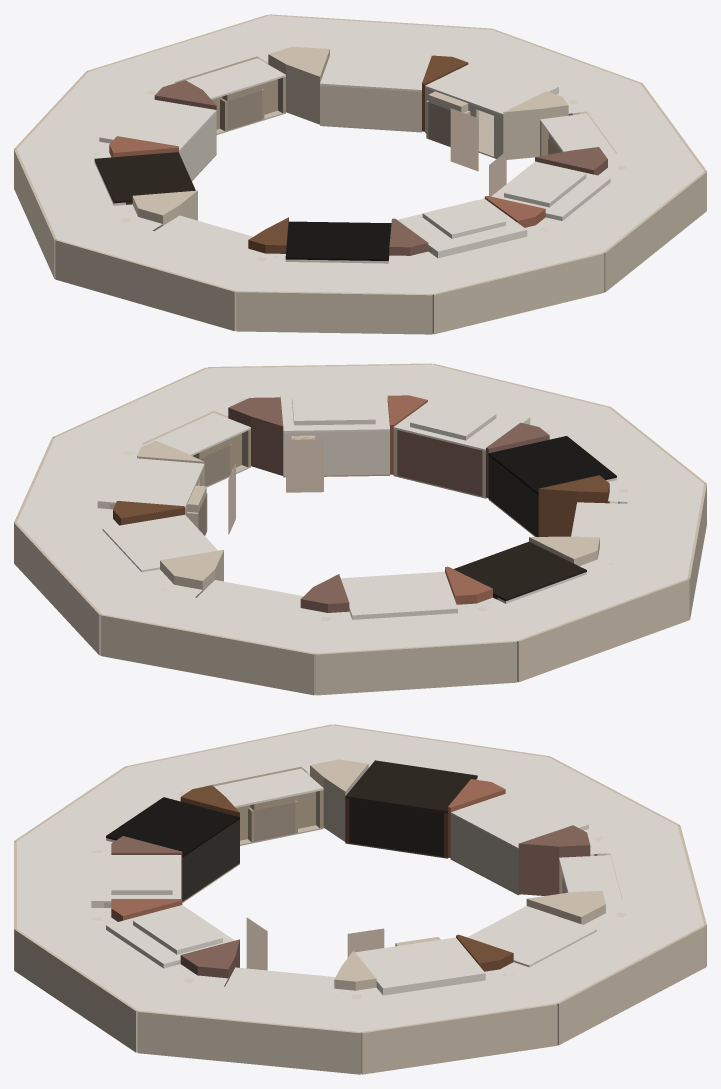
3 renders of one model, top to bottom at view 1: azimuth 30°, elevation 25°; view 2: azimuth 150°, elevation 25°; view 3: azimuth 270°, elevation 25°, orthographic. The views are drawn at different scales.
Parts seen in each view (by area): view 1: dinding luar.009, dinding luar.008, dinding luar, plafon aula.005, plafon aula.004, plafon aula.008, plafon aula.001, plafon aula.007, plafon aula.002, plafon aula.009, plafon aula, plafon aula.006 (+36 smaller); view 2: dinding luar.005, dinding luar.006, dinding luar.007, plafon aula.005, plafon aula.004, plafon aula.007, plafon aula.002, plafon aula.008, plafon aula.001, plafon aula.006, plafon aula.003, plafon aula.009 (+32 smaller); view 3: dinding luar.002, dinding luar.003, plafon aula.004, plafon aula.005, dinding luar.004, plafon aula.002, plafon aula.008, plafon aula.001, plafon aula.007, plafon aula.003, plafon aula, plafon aula.009 (+35 smaller).
Part boxes in pixels (bbox=[...]): dinding luar.009: bbox=[236, 291, 432, 334]; dinding luar.008: bbox=[55, 239, 236, 331]; dinding luar: bbox=[432, 252, 604, 334]; plafon aula.005: bbox=[89, 15, 287, 90]; plafon aula.004: bbox=[269, 15, 490, 57]; plafon aula.008: bbox=[57, 221, 258, 290]; plafon aula.001: bbox=[550, 168, 703, 252]; plafon aula.007: bbox=[17, 149, 120, 239]; plafon aula.002: bbox=[579, 84, 703, 171]; plafon aula.009: bbox=[236, 261, 432, 293]; plafon aula: bbox=[415, 231, 602, 293]; plafon aula.006: bbox=[17, 72, 146, 151]; dinding luar.005: bbox=[100, 614, 315, 695]; dinding luar.006: bbox=[315, 640, 517, 695]; dinding luar.007: bbox=[517, 578, 689, 682]; plafon aula.005: bbox=[102, 591, 324, 653]; plafon aula.004: bbox=[17, 519, 158, 613]; plafon aula.007: bbox=[485, 563, 686, 640]; plafon aula.002: bbox=[55, 368, 240, 452]; plafon aula.008: bbox=[616, 484, 703, 578]; plafon aula.001: bbox=[208, 364, 431, 398]; plafon aula.006: bbox=[315, 611, 516, 653]; plafon aula.003: bbox=[17, 438, 122, 522]; plafon aula.009: bbox=[554, 408, 703, 490]; dinding luar.002: bbox=[137, 1010, 361, 1074]; dinding luar.003: bbox=[361, 1003, 557, 1074]; plafon aula.004: bbox=[512, 915, 703, 1002]; plafon aula.005: bbox=[606, 825, 703, 924]; dinding luar.004: bbox=[557, 925, 706, 1045]; plafon aula.002: bbox=[139, 983, 361, 1031]; plafon aula.008: bbox=[127, 725, 337, 791]; plafon aula.001: bbox=[17, 920, 184, 1010]; plafon aula.007: bbox=[333, 725, 547, 783]; plafon aula.003: bbox=[357, 976, 556, 1031]; plafon aula: bbox=[17, 841, 91, 928]; plafon aula.009: bbox=[17, 767, 177, 850].
Size of the model in its own units: 51.17 by 4.3 by 48.49.
